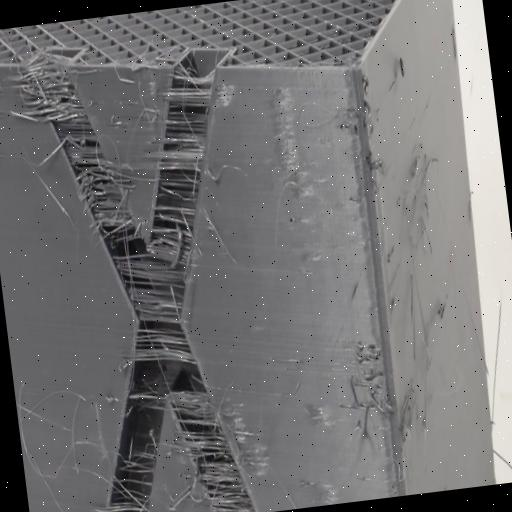stringing: (134, 72, 240, 274), (27, 62, 125, 251), (172, 384, 255, 512), (115, 274, 208, 376), (94, 431, 174, 512)
